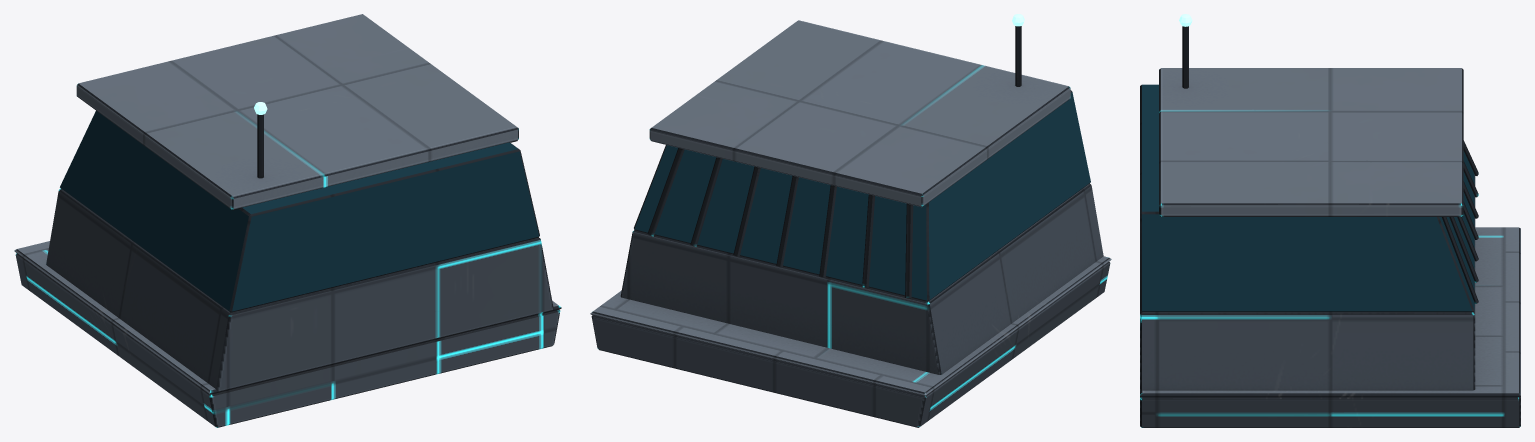
File: cabina_puente_t3.fbx
3 views of the same model, side by side, from view 1: azimuth 30°, elevation 25°; view 2: azimuth 150°, elevation 25°; view 3: azimuth 270°, elevation 25° (orthographic). The views are drawn at different scales.
Parts seen in each view (by area): view 1: cabina_puente_t3, cabina_puente_t3_cristal; view 2: cabina_puente_t3, cabina_puente_t3_cristal; view 3: cabina_puente_t3, cabina_puente_t3_cristal.
Part boxes in pixels (x1=…): cabina_puente_t3: x1=14, y1=14, x2=561, y2=427; cabina_puente_t3_cristal: x1=60, y1=110, x2=539, y2=311; cabina_puente_t3: x1=590, y1=20, x2=1111, y2=427; cabina_puente_t3_cristal: x1=634, y1=92, x2=1090, y2=300; cabina_puente_t3: x1=1140, y1=26, x2=1520, y2=427; cabina_puente_t3_cristal: x1=1142, y1=84, x2=1474, y2=311.
Bounding box in the file's own units: 5.2 × 4.33 × 5.
